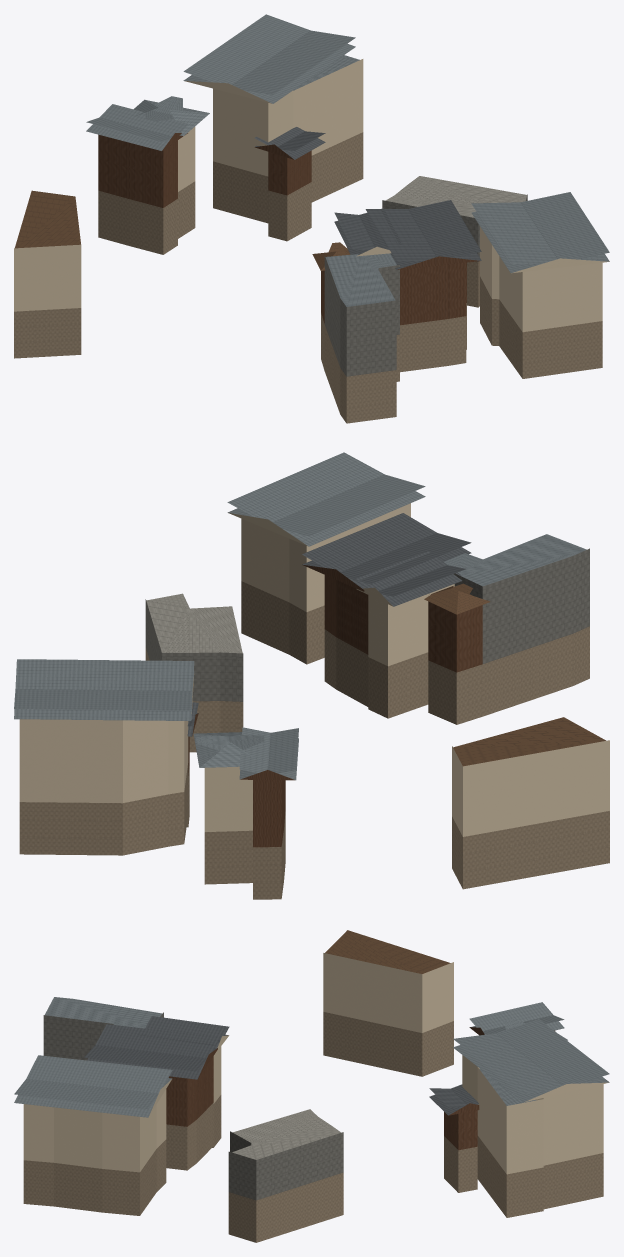
The model's file is bld_c33_46_241.gltf.
The picture shows the model from 3 angles, top to bottom: view 1: azimuth 30°, elevation 25°; view 2: azimuth 150°, elevation 25°; view 3: azimuth 270°, elevation 25°; orthographic projection. The views are drawn at different scales.
Parts seen in each view (by area): view 1: bld_c33_46_241; view 2: bld_c33_46_241; view 3: bld_c33_46_241.
Boxes of the visible parts, <box> form: bld_c33_46_241: <box>14,14,609,423</box>; bld_c33_46_241: <box>14,452,609,899</box>; bld_c33_46_241: <box>14,930,609,1242</box>.
Size of the model in its own units: 52.92 by 16 by 63.04.
Materials: 11 (11 with a texture image).
